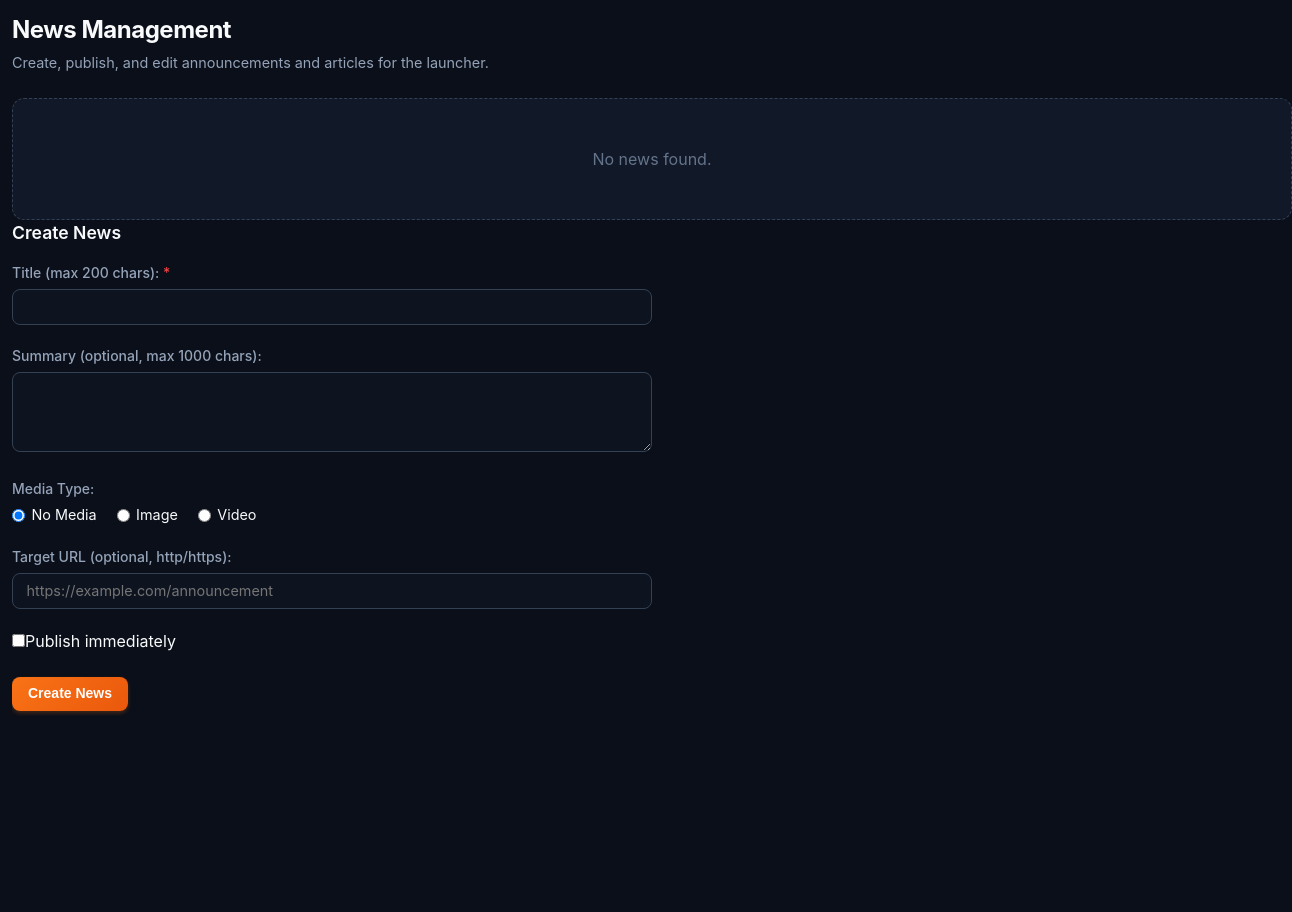
Test case: News UI Functional Tests › 4. Displays validation error when title is empty
Expected: the heading "Create News" is shown, [12, 220, 121, 246]
Click the button "Create News" at (70, 694), box [12, 677, 128, 711]
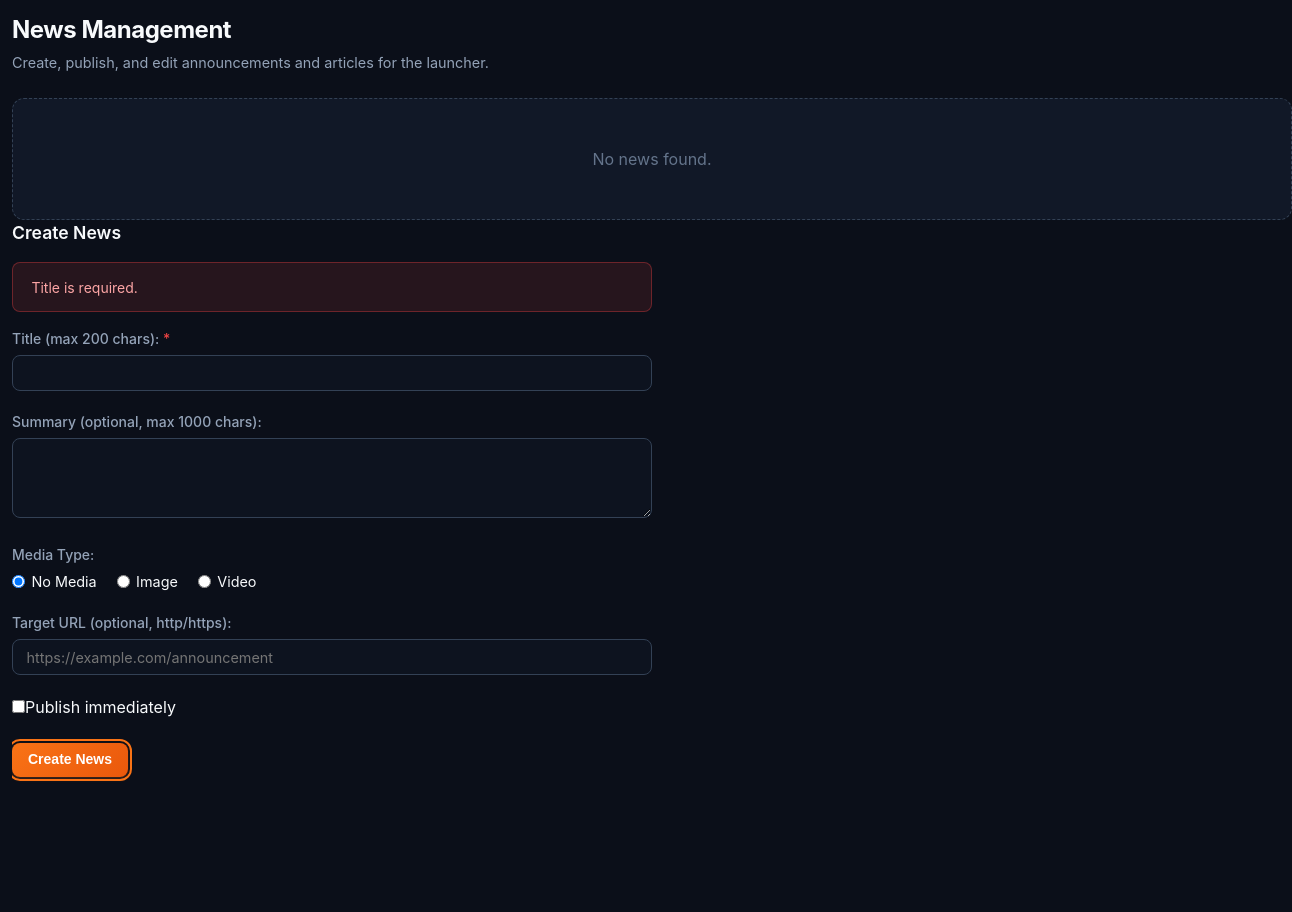
Result: the text "Title is required." is shown at [12, 262, 652, 312]
